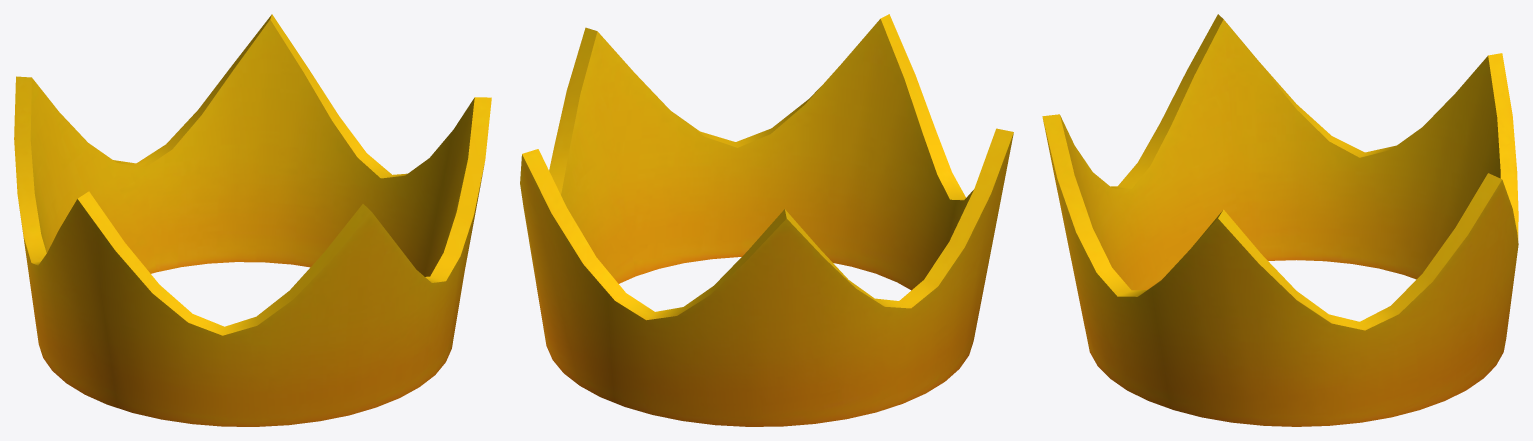
The model's file is mini-crown.glb.
The picture shows the model from 3 angles, left to right: view 1: azimuth 30°, elevation 25°; view 2: azimuth 150°, elevation 25°; view 3: azimuth 270°, elevation 25°; orthographic projection. The views are drawn at different scales.
Size of the model in its own units: 1 by 0.5115 by 0.9845.
1 material, 1 textured.
